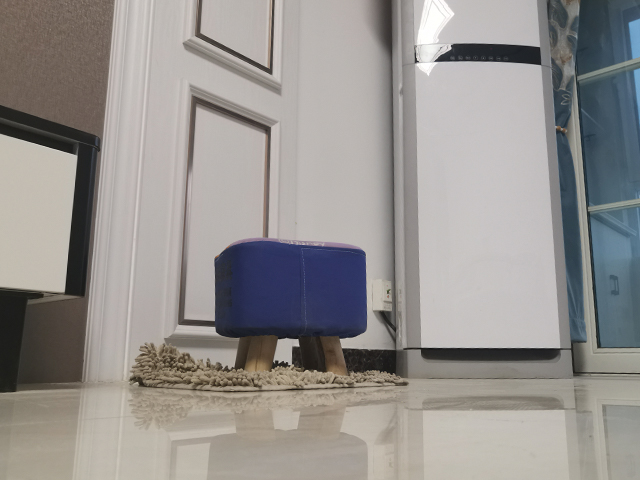carpet: (126, 340, 412, 395)
stool: (212, 234, 369, 374)
